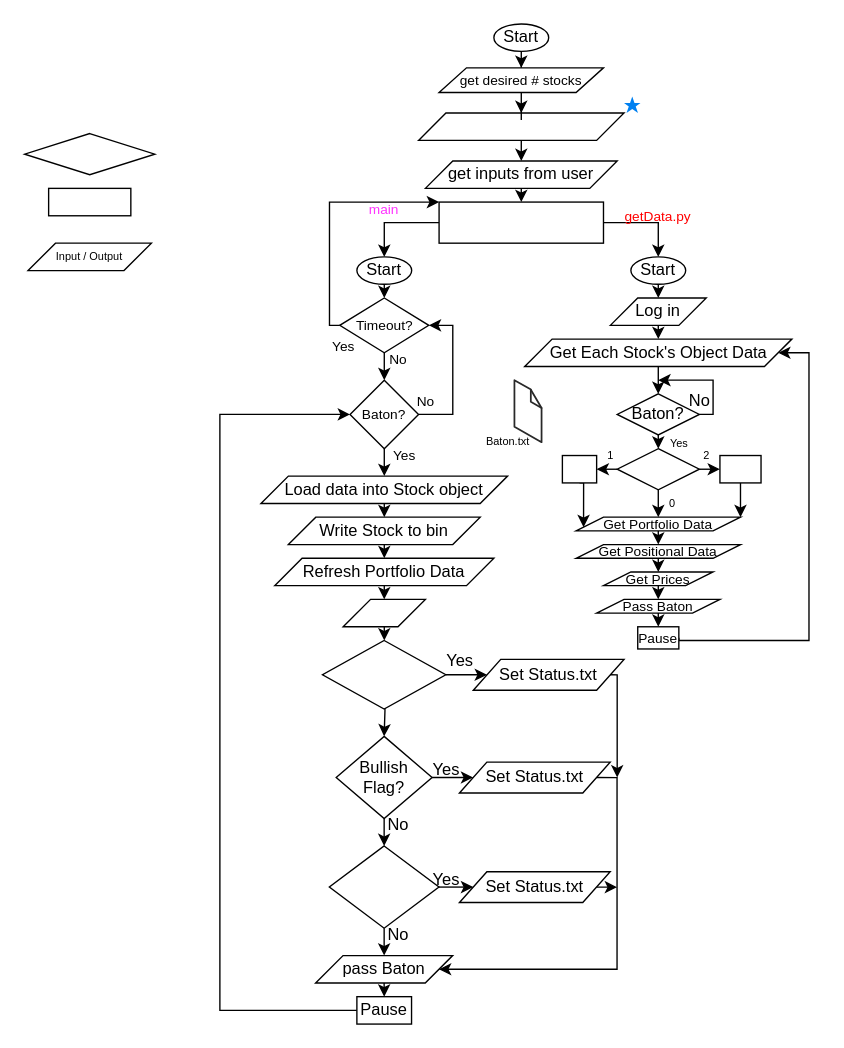
This 844x1048 diagram has some shape labels left out. The shapes that lost their labels are listed below. From the top down, each one's centre as x and y in pixels, then its label:
At point (520, 126): "suggest initial inputs".
At point (89, 153): "Decision Making".
At point (89, 201): "instruction".
At point (520, 222): "run main && getData.py".
At point (579, 468): "Buy".
At point (657, 468): "Status?".
At point (740, 468): "Sell".
At point (383, 612): "Print".
At point (383, 674): "Stop Loss /Profit Take".
At point (383, 886): "Bearish Flag?".
